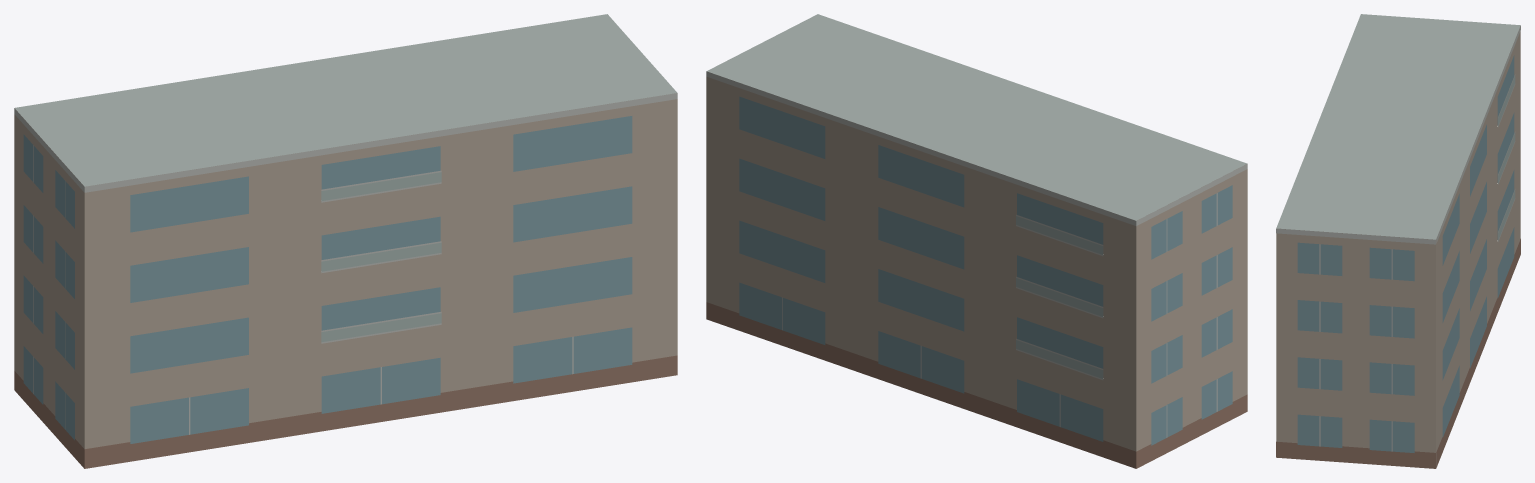
Rendered from survey-upis-32750072.glb.
3 views of the same model, side by side, from view 1: azimuth 30°, elevation 25°; view 2: azimuth 150°, elevation 25°; view 3: azimuth 270°, elevation 25° (orthographic). The views are drawn at different scales.
Parts seen in each view (by area): view 1: survey-upis-32750072.tmp; view 2: survey-upis-32750072.tmp; view 3: survey-upis-32750072.tmp.
Boxes of the visible parts, x1,y1,x2,y2 form: survey-upis-32750072.tmp: (14,14,677,468); survey-upis-32750072.tmp: (706,14,1247,468); survey-upis-32750072.tmp: (1276,14,1520,468).
Size of the model in its own units: 23.87 by 11.3 by 10.94.
